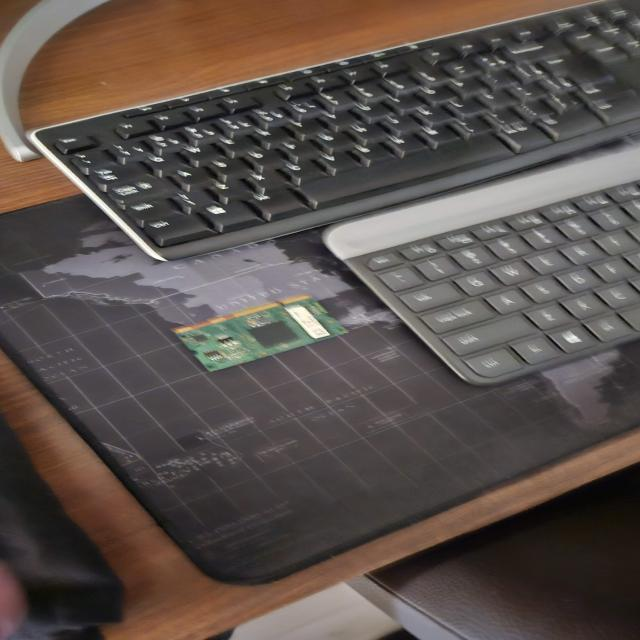som: (156, 293, 365, 376)
